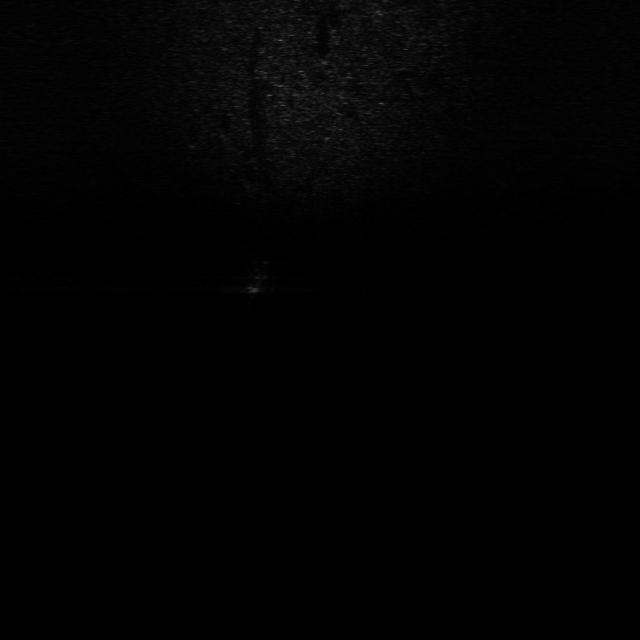human body: (239, 256, 277, 312)
